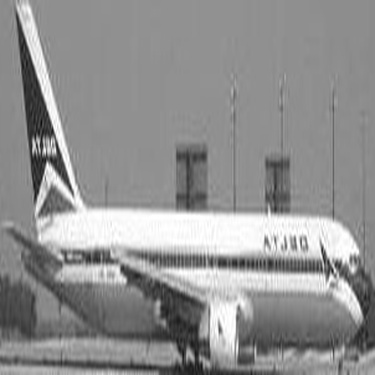airplane: (1, 1, 370, 372)
